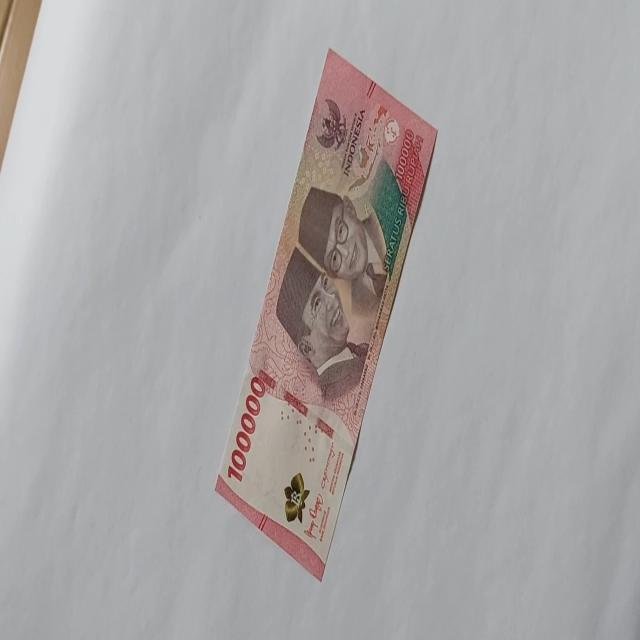seratus ribu rupiah: (214, 47, 438, 580), (274, 184, 388, 398)
